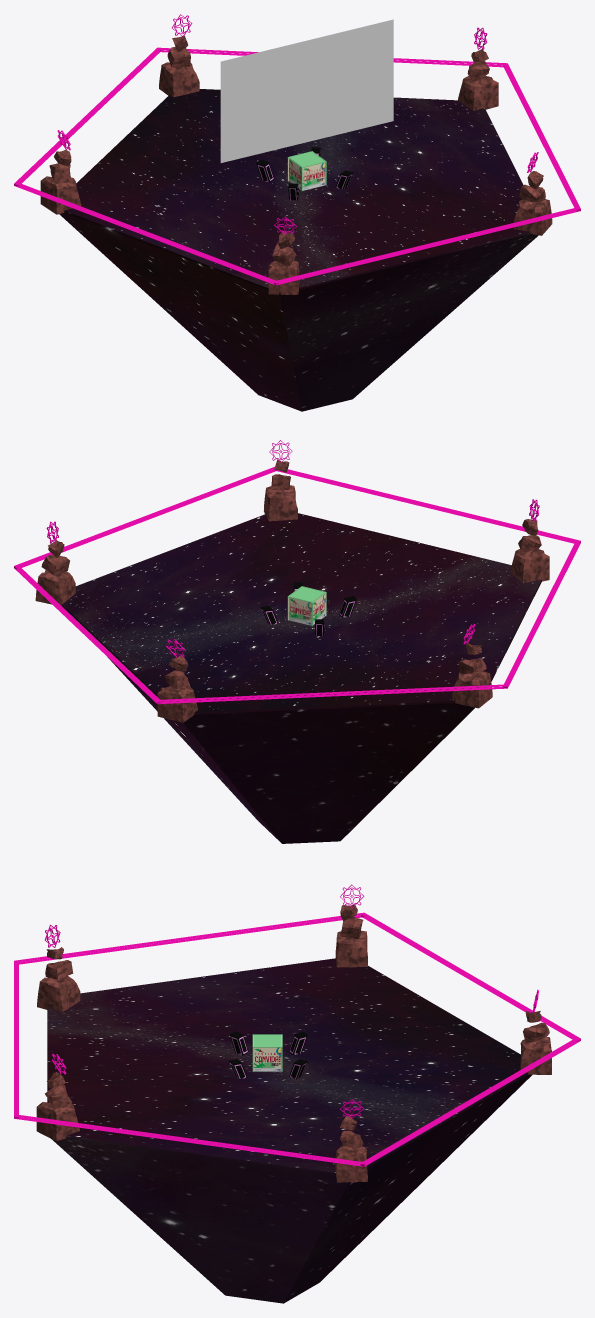
Rendered from palco.glb.
3 renders of one model, top to bottom at view 1: azimuth 30°, elevation 25°; view 2: azimuth 150°, elevation 25°; view 3: azimuth 270°, elevation 25°, orthographic. The views are drawn at different scales.
Parts seen in each view (by area): view 1: chaoAnimado, chaoIlha, Screen, glow_contorno, cuboCentro, pilar1_1, pilar5_1, pilar4_1, pilar2_1, pilar3_1; view 2: chaoAnimado, chaoIlha, glow_contorno, cuboCentro, pilar3_1, pilar4_1, pilar5_1, pilar2_1, pilar1_1; view 3: chaoAnimado, chaoIlha, glow_contorno, pilar3_1, cuboCentro, pilar2_1, pilar4_1, pilar1_1, pilar5_1.
Part boxes in pixels (x1=…): chaoAnimado: x1=64, y1=89, x2=528, y2=292; chaoIlha: x1=59, y1=211, x2=538, y2=411; Screen: x1=220, y1=19, x2=393, y2=162; glow_contorno: x1=14, y1=47, x2=580, y2=285; cuboCentro: x1=287, y1=151, x2=326, y2=191; pilar1_1: x1=458, y1=76, x2=498, y2=110; pilar5_1: x1=159, y1=62, x2=199, y2=97; pilar4_1: x1=40, y1=176, x2=81, y2=214; pilar2_1: x1=514, y1=199, x2=552, y2=235; pilar3_1: x1=268, y1=260, x2=299, y2=294; chaoAnimado: x1=62, y1=513, x2=541, y2=712; chaoIlha: x1=62, y1=580, x2=541, y2=843; glow_contorno: x1=14, y1=467, x2=580, y2=704; cuboCentro: x1=287, y1=586, x2=326, y2=626; pilar3_1: x1=510, y1=549, x2=549, y2=583; pilar4_1: x1=452, y1=671, x2=492, y2=708; pilar5_1: x1=157, y1=686, x2=197, y2=722; pilar2_1: x1=264, y1=485, x2=297, y2=521; pilar1_1: x1=35, y1=570, x2=75, y2=605; chaoAnimado: x1=47, y1=958, x2=527, y2=1172; chaoIlha: x1=51, y1=1073, x2=532, y2=1303; glow_contorno: x1=14, y1=912, x2=580, y2=1166; pilar3_1: x1=37, y1=976, x2=80, y2=1011; cuboCentro: x1=252, y1=1034, x2=282, y2=1071; pilar2_1: x1=36, y1=1102, x2=79, y2=1141; pilar4_1: x1=335, y1=930, x2=367, y2=967; pilar1_1: x1=335, y1=1145, x2=367, y2=1182; pilar5_1: x1=520, y1=1037, x2=551, y2=1074.
Bounding box in the file's own units: 159 × 108 × 152.
5 materials, 4 textured.
